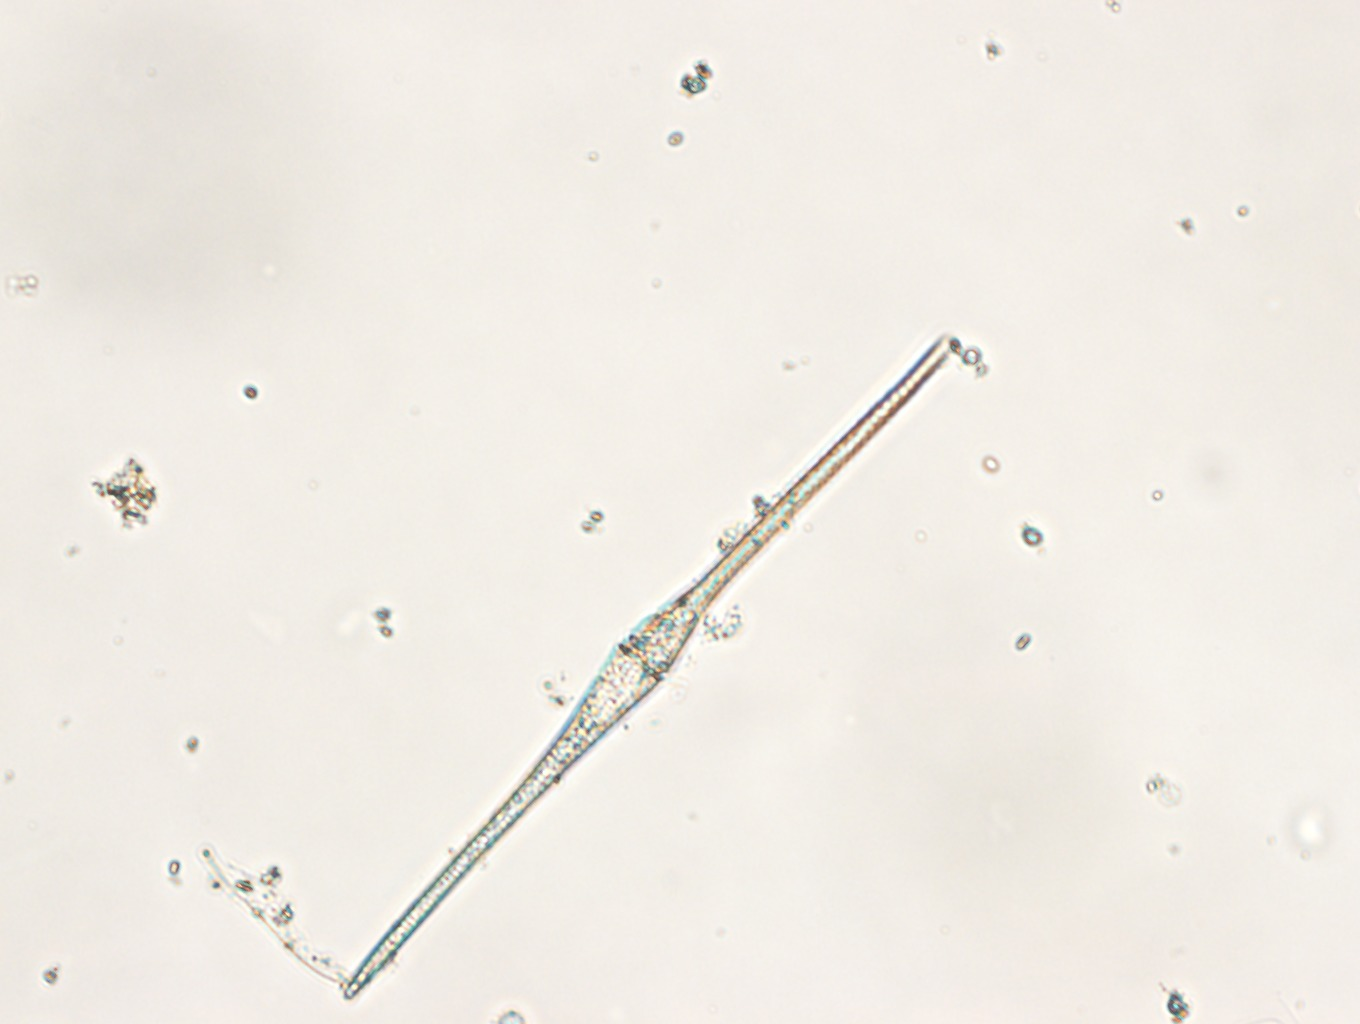ceratium fusus: (340, 328, 960, 1001)
